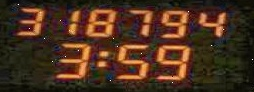1: (66, 8, 80, 35)
3: (50, 42, 92, 79), (13, 6, 45, 35)
4: (196, 10, 226, 37)
5: (115, 44, 149, 80)
7: (126, 8, 151, 36)
8: (84, 7, 116, 37)
9: (153, 44, 190, 80), (157, 9, 188, 38)
X: (93, 49, 108, 67)
